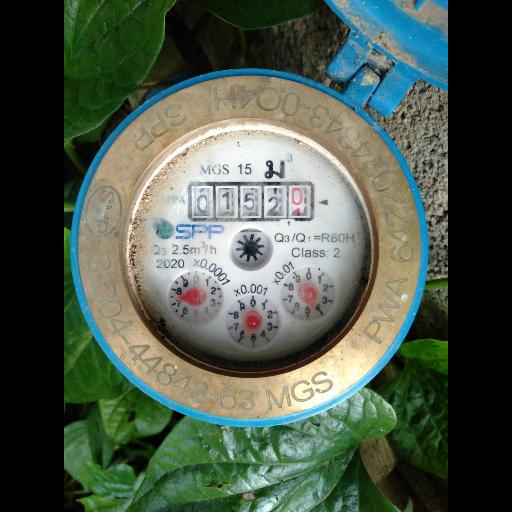0: (288, 186, 306, 218), (194, 185, 211, 218)
1: (220, 185, 235, 217)
2: (266, 185, 282, 217)
5: (242, 185, 257, 217)
border_water_meter_number: (188, 181, 315, 222)
